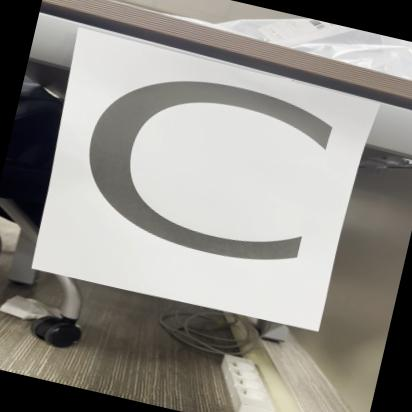seat: (26, 29, 378, 340)
